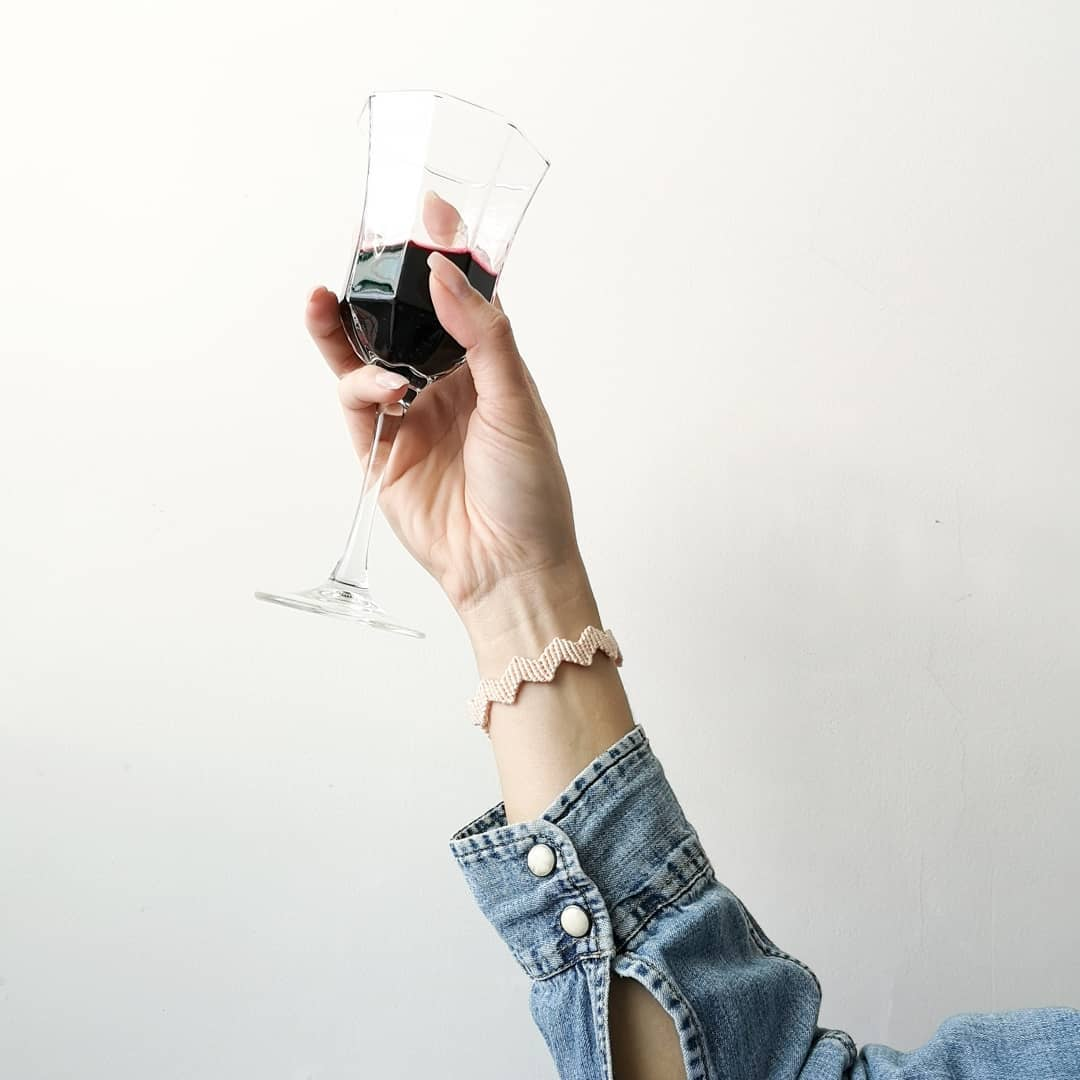hand: (325, 200, 527, 617)
